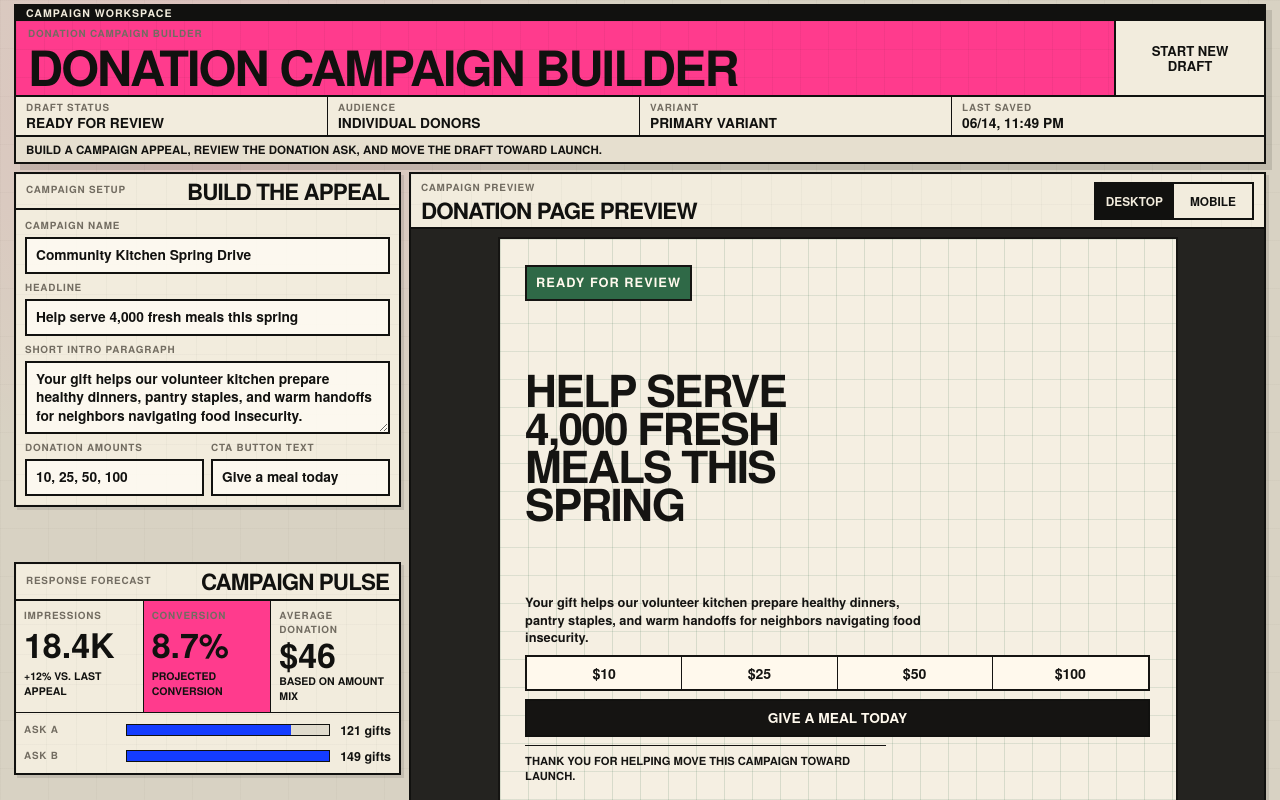
Test: shows validation feedback when required content is removed
This screenshot has width=1280, height=800.
Clear the field labelled "Headline" at x=208, y=317, box 25,299 -> 390,336
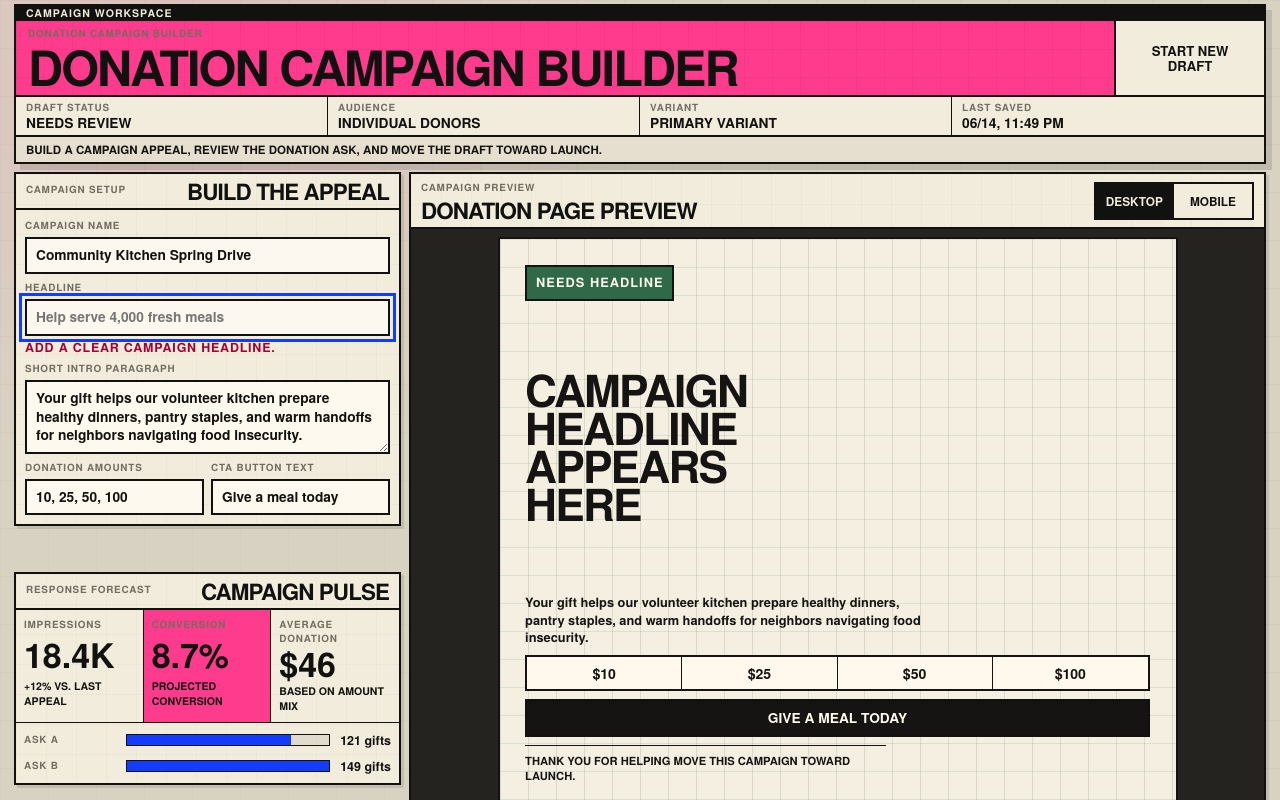
Expected: the text "Add a clear campaign headline." is shown, 25,338 -> 276,356
Expected: the text "Needs headline" is shown, 525,265 -> 674,301
Expected: the text "Needs review" is shown, 26,114 -> 131,133
